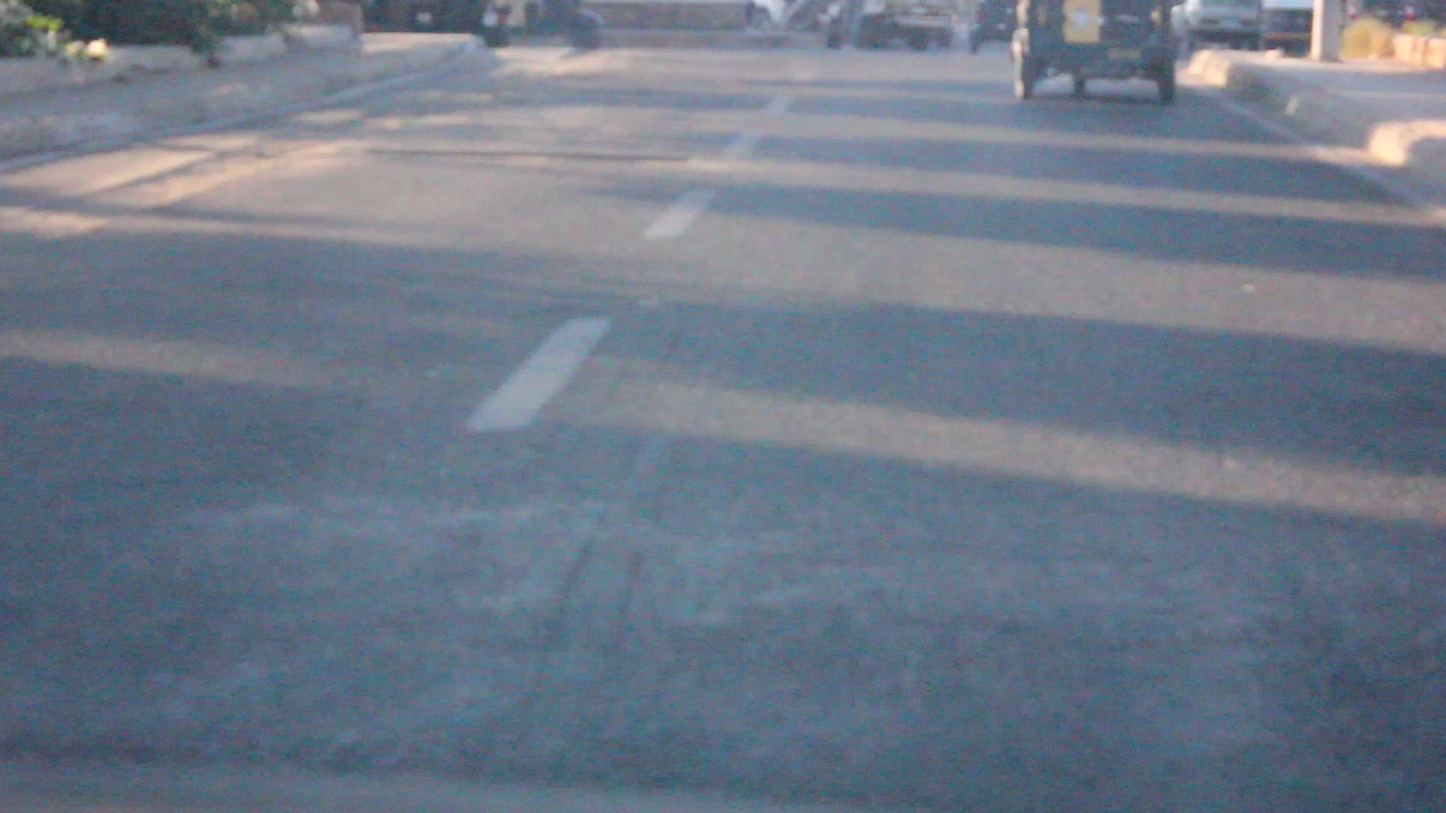Bump: (13, 486, 1440, 807)
